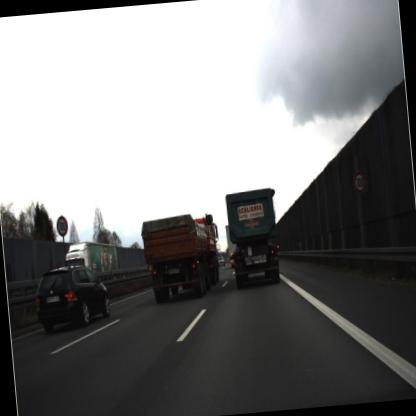prohibitory: (52, 213, 71, 240), (350, 170, 368, 196)
